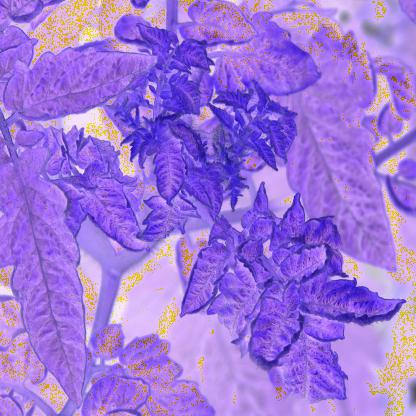tomato leaf yellow virus: (0, 138, 106, 400), (1, 34, 179, 121), (73, 163, 155, 260), (197, 38, 325, 100), (296, 270, 416, 330), (239, 291, 307, 382), (176, 230, 237, 325), (286, 325, 359, 401), (265, 238, 344, 286), (146, 136, 192, 203), (186, 157, 236, 208), (246, 137, 283, 170), (265, 120, 291, 154)
